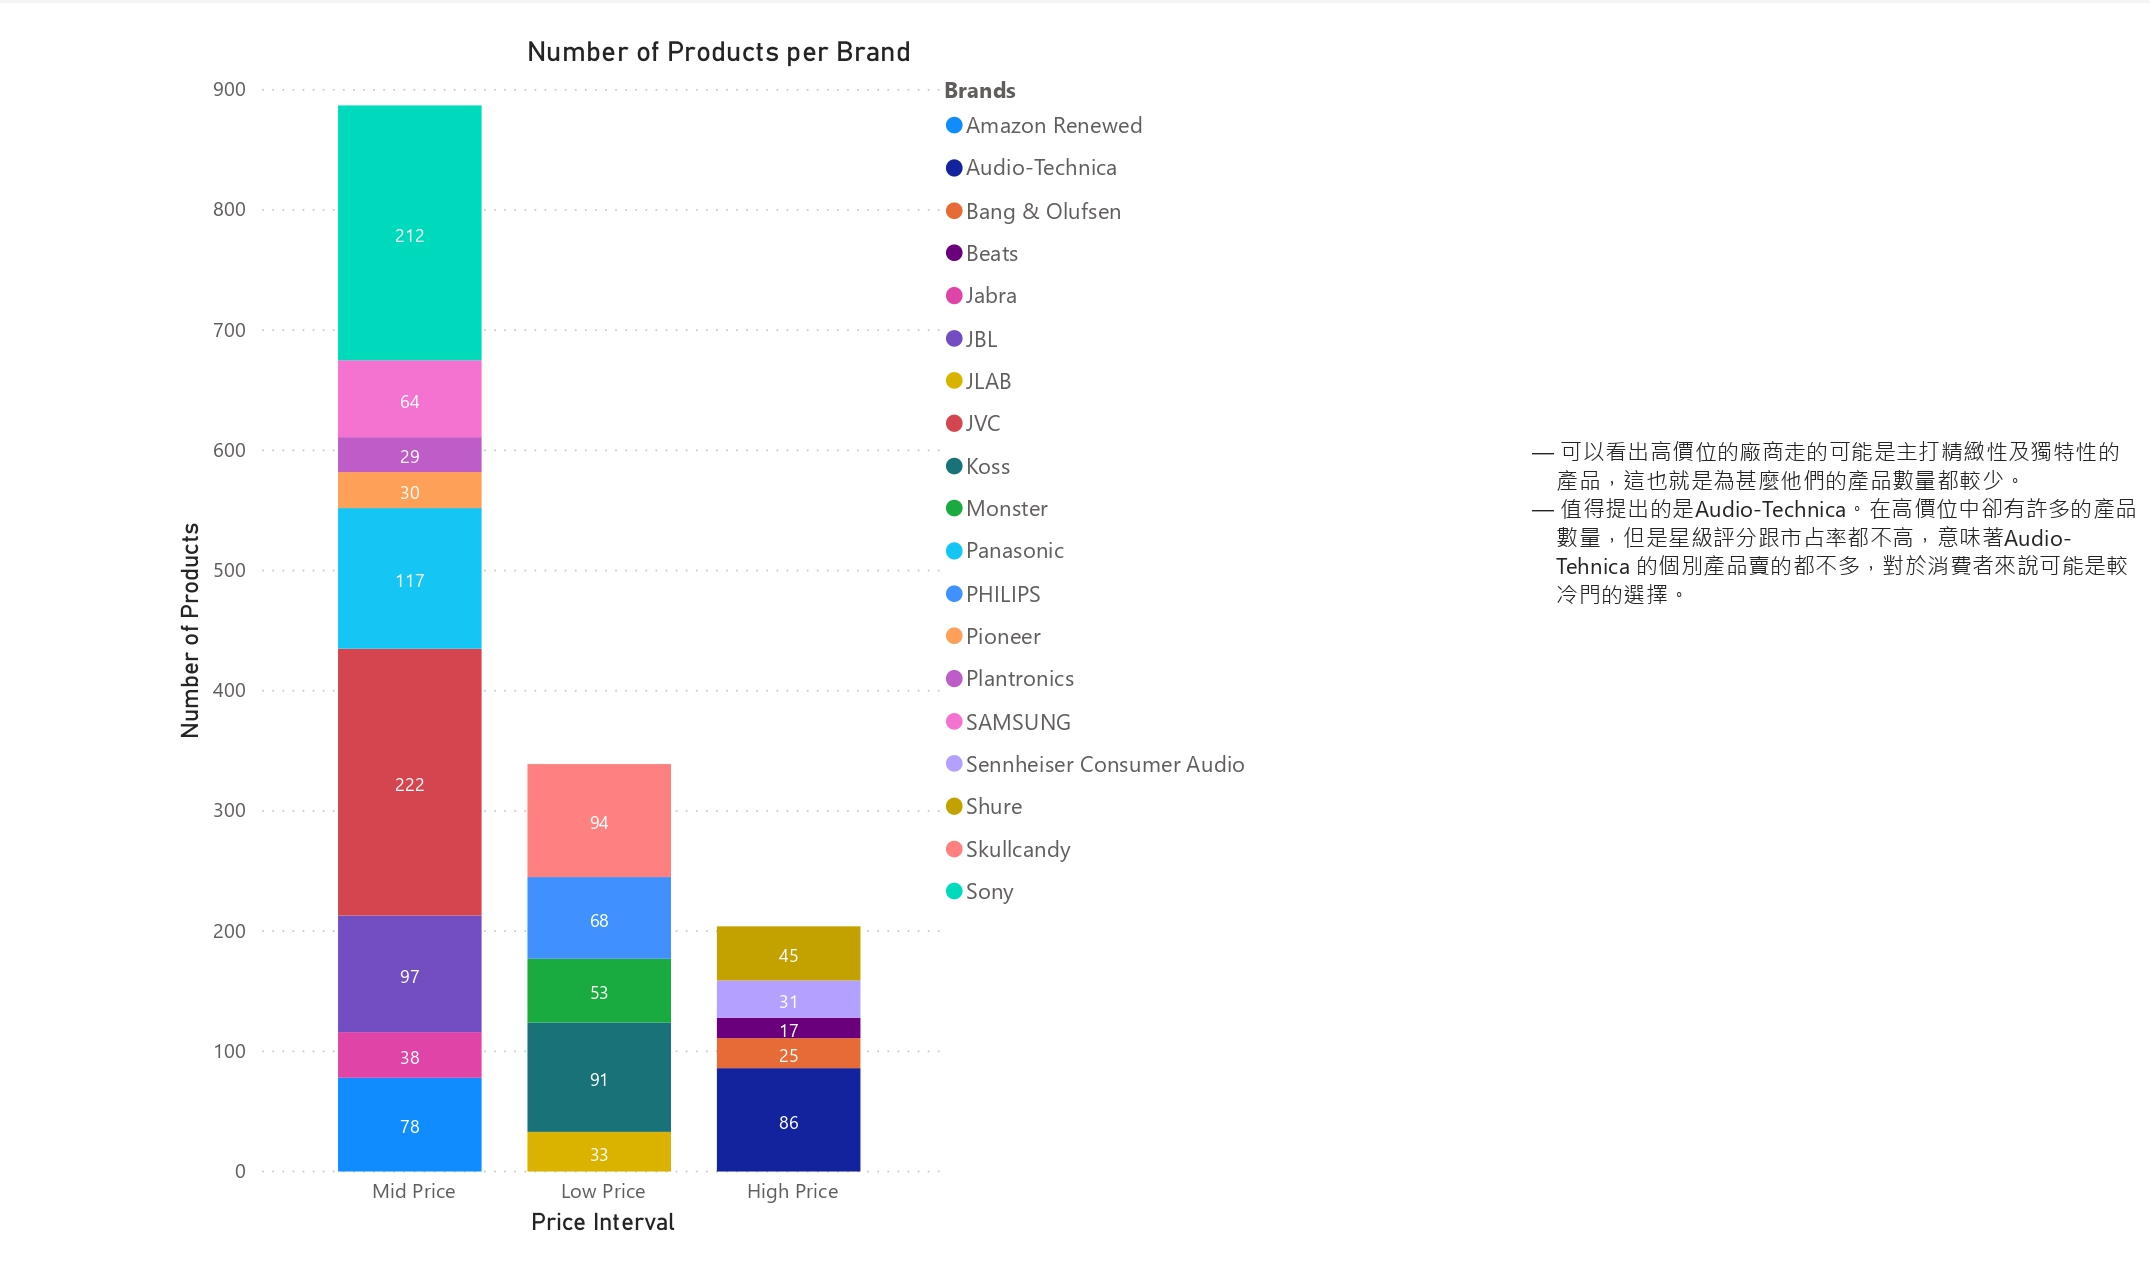

The dashboard page shown, as its layout file describes it:
{"tool":"powerbi","page":{"name":"Donut Products","canvas":[1280,720],"ordinal":4},"visuals":[{"type":"textbox","box":[906.9,234.4,372.9,222.8],"z":3},{"type":"columnChart","title":"Number of Products per Brand","fields":{"Category":["Grouped.Price_Interval"],"Y":["CountNonNull(Clean_Amazon_Earbuds (2).Titles)"],"Series":["Clean_Amazon_Earbuds (2).Brands"]},"box":[100.1,0,655.8,720],"z":4}]}

Visuals, with their boxes on the page's 1280x720 design canvas (x1, y1, x2, y2). These are canvas units, not pixel positions in the 2150x1275 screenshot, which may show the page scaled, cropped or inside an application window:
textbox: box(907, 234, 1280, 457)
"Number of Products per Brand" columnChart: box(100, 0, 756, 720)
